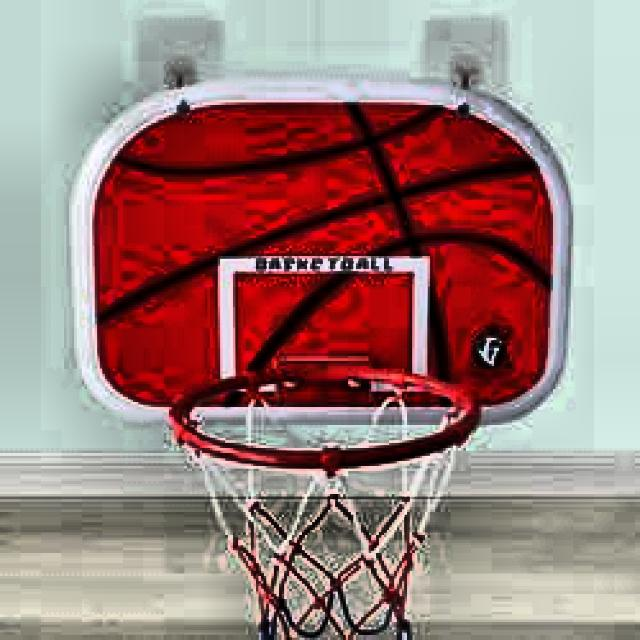rim: (170, 374, 483, 640)
